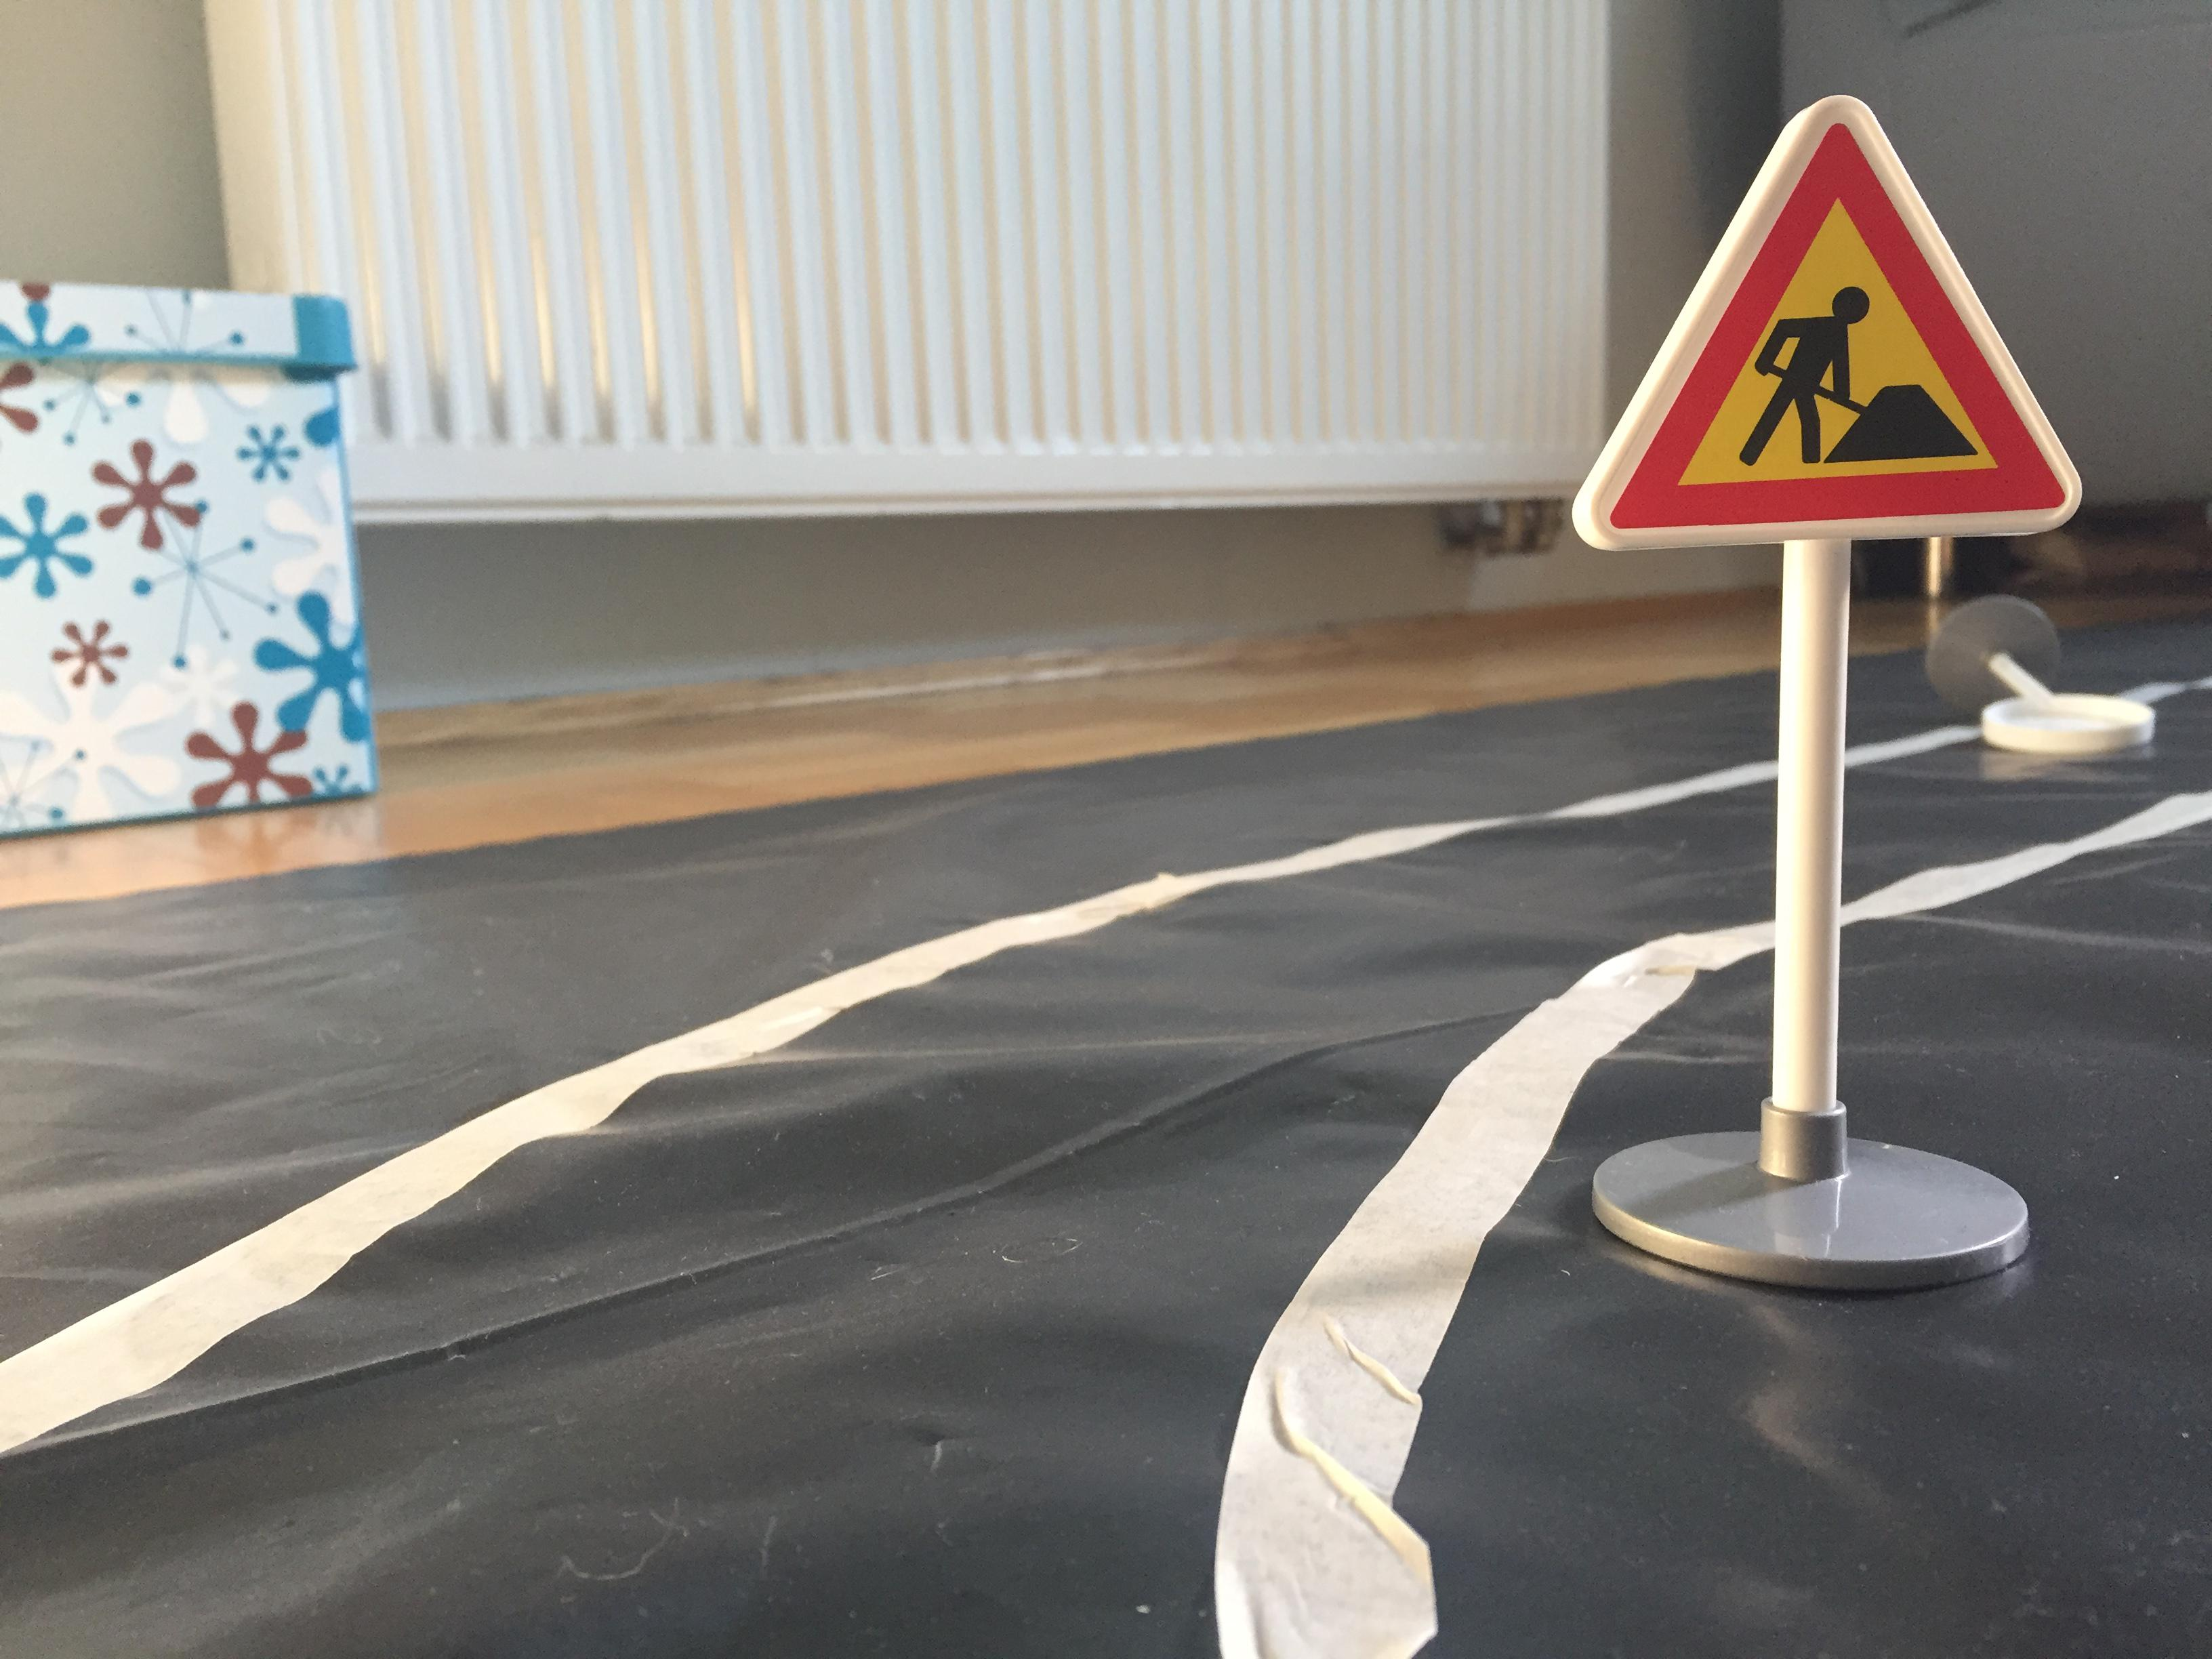work: (1566, 84, 2087, 566)
